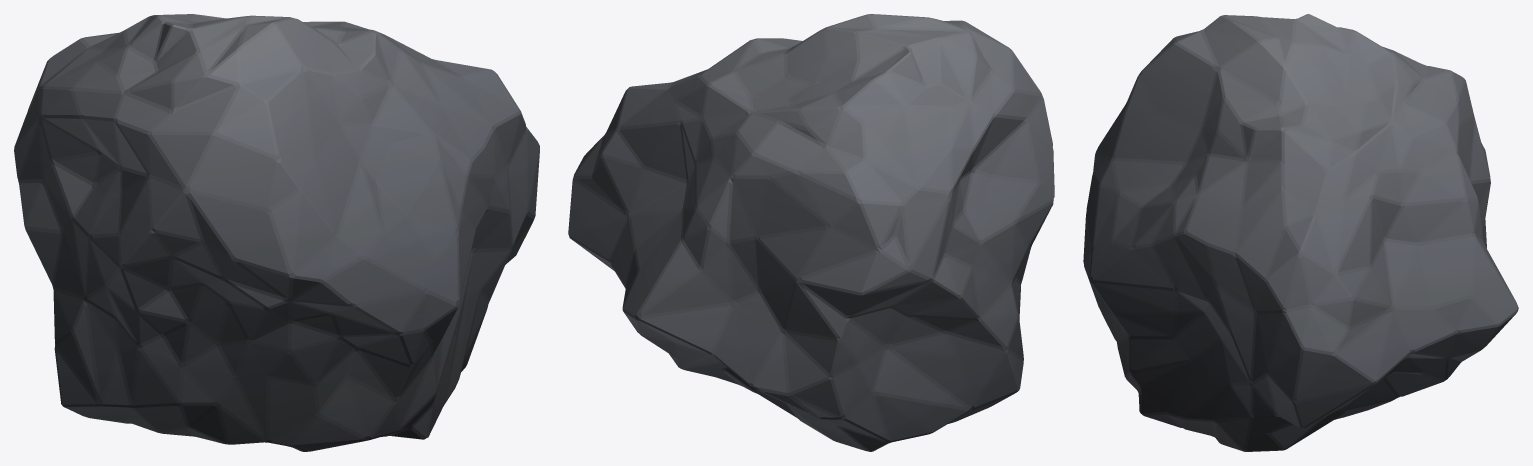
The model's file is IronResource3.glb.
3 views of the same model, side by side, from view 1: azimuth 30°, elevation 25°; view 2: azimuth 150°, elevation 25°; view 3: azimuth 270°, elevation 25° (orthographic). The views are drawn at different scales.
Parts seen in each view (by area): view 1: IronResource3; view 2: IronResource3; view 3: IronResource3.
Boxes of the visible parts, left/top/right/bottom form: IronResource3: left=14, top=14, right=539, bottom=451; IronResource3: left=568, top=14, right=1054, bottom=451; IronResource3: left=1083, top=14, right=1518, bottom=451.
Bounding box in the file's own units: 0.6317 × 0.5027 × 0.5689.
Materials: 1 (1 with a texture image).
